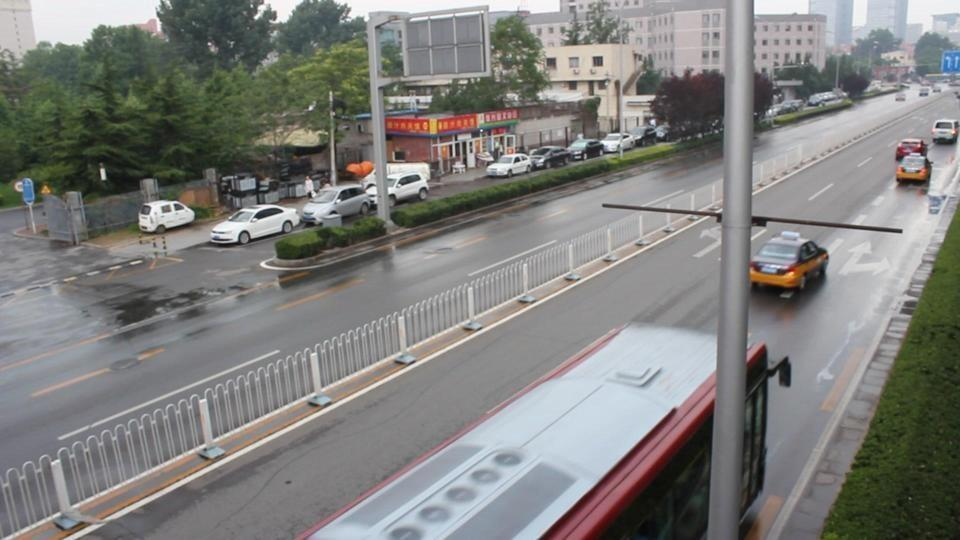car: (749, 229, 830, 295), (209, 205, 300, 246), (300, 185, 374, 228), (359, 169, 431, 206), (137, 199, 195, 234), (486, 154, 536, 178), (895, 153, 931, 186), (527, 146, 572, 171), (566, 138, 605, 161), (628, 124, 662, 148), (601, 132, 634, 154), (931, 120, 959, 145), (895, 137, 927, 158), (807, 90, 840, 107), (919, 87, 932, 97)
